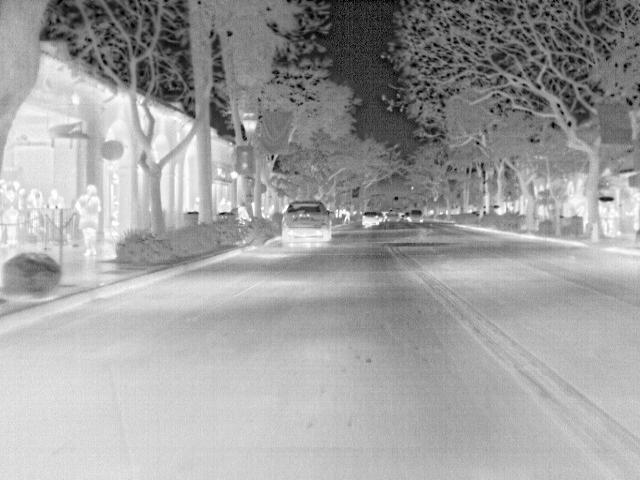car: (280, 199, 334, 242), (360, 211, 382, 226), (407, 210, 423, 225), (384, 211, 402, 224)
person: (74, 186, 102, 256), (48, 189, 68, 208), (28, 188, 47, 207), (236, 203, 252, 222)
